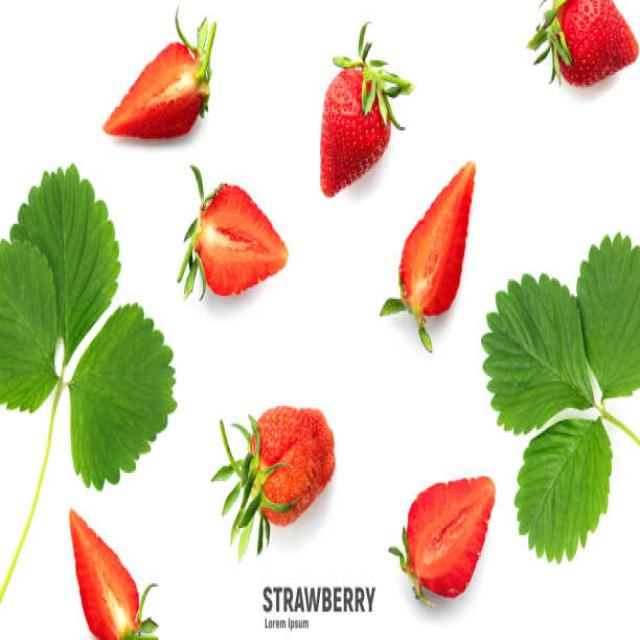Healthy Fruit: (250, 405, 334, 528), (319, 64, 391, 196), (552, 0, 640, 90)
